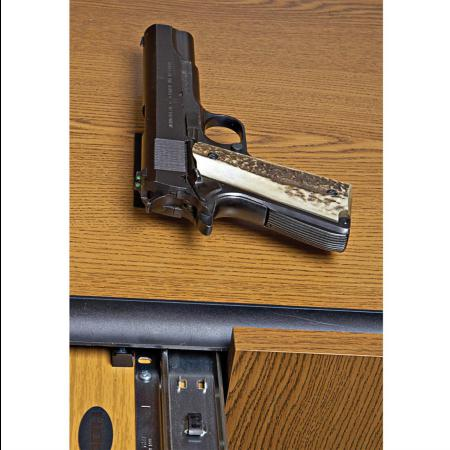Pistol: (126, 27, 354, 255)
